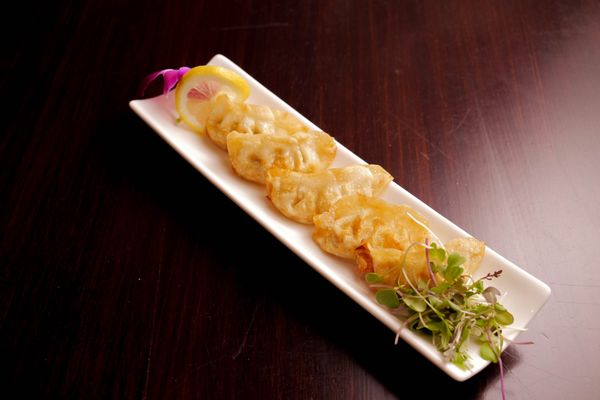curry: (95, 1, 597, 393)
